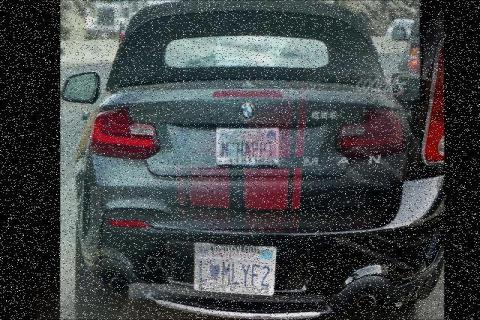LicensePlate: (193, 242, 275, 296), (216, 128, 281, 166)
